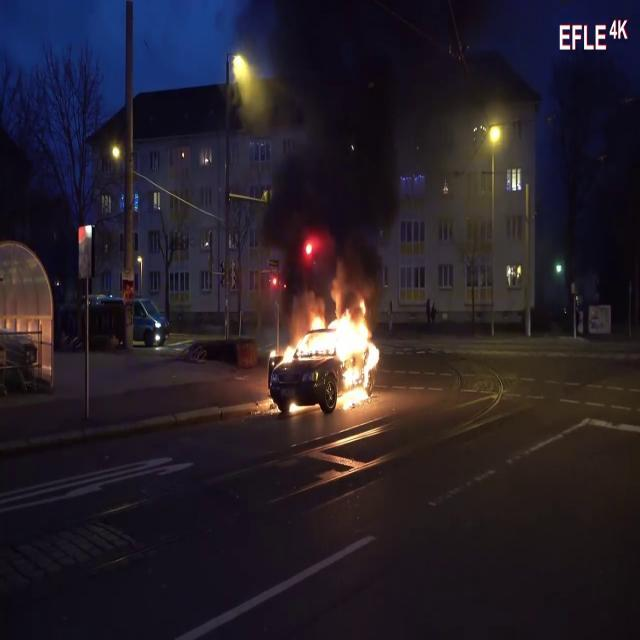Fire: (277, 292, 383, 405)
Smoke: (244, 0, 409, 292)
